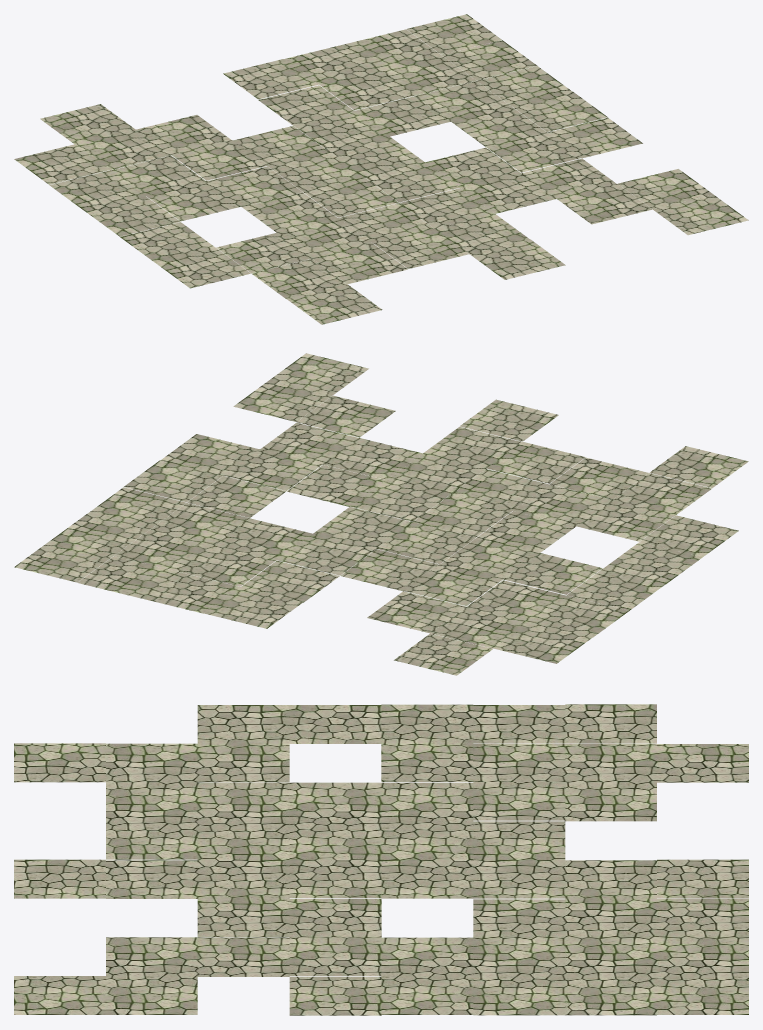
Rendered from ruin-paving.ruins-v1.lod1.glb.
The picture shows the model from 3 angles, top to bottom: view 1: azimuth 30°, elevation 25°; view 2: azimuth 150°, elevation 25°; view 3: azimuth 270°, elevation 25°; orthographic projection. The views are drawn at different scales.
Parts seen in each view (by area): view 1: ruin-paving; view 2: ruin-paving; view 3: ruin-paving.
Part boxes in pixels (<box>): ruin-paving: <box>14,14,748,324</box>; ruin-paving: <box>14,353,748,675</box>; ruin-paving: <box>14,704,748,1015</box>.
Size of the model in its own units: 20 by 0.0269 by 20.
Materials: 1 (1 with a texture image).
